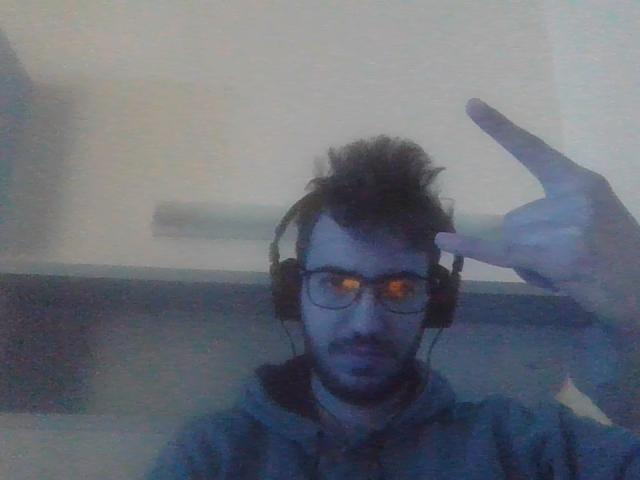iloveyou: (435, 92, 634, 327)
